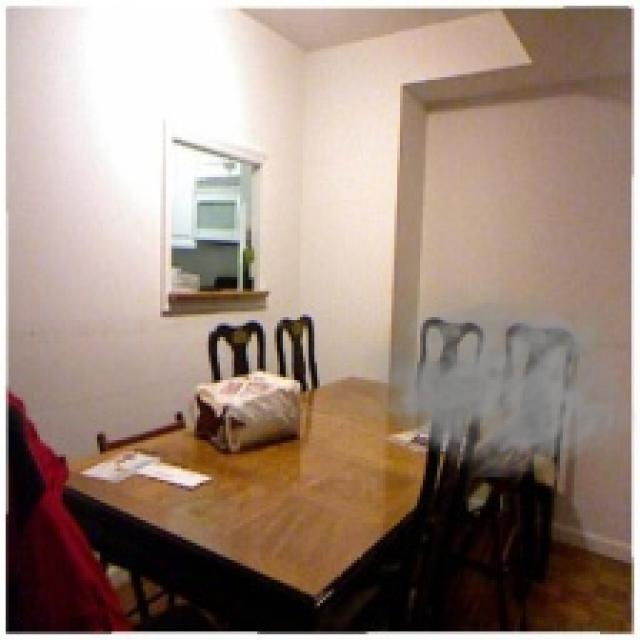smoke: (354, 277, 637, 480)
